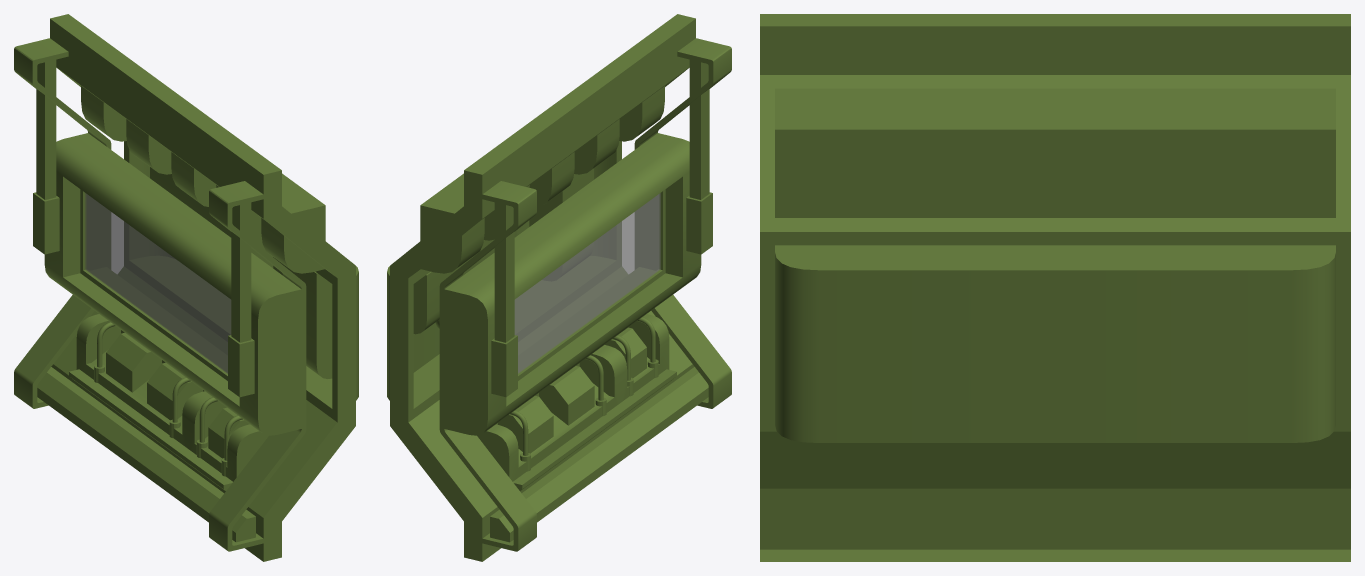
File: Wall_A_4x4m.FBX
3 renders of one model, left to right at view 1: azimuth 30°, elevation 25°; view 2: azimuth 150°, elevation 25°; view 3: azimuth 270°, elevation 25°, orthographic. The views are drawn at different scales.
Visible parts, largest first — view 1: Wall_A_4x4m; view 2: Wall_A_4x4m; view 3: Wall_A_4x4m.
Boxes of the visible parts, x1,y1,x2,y2 form: Wall_A_4x4m: [14, 14, 358, 561]; Wall_A_4x4m: [387, 14, 731, 561]; Wall_A_4x4m: [760, 14, 1350, 561].
Bounding box in the file's own units: 159 × 400 × 400.
